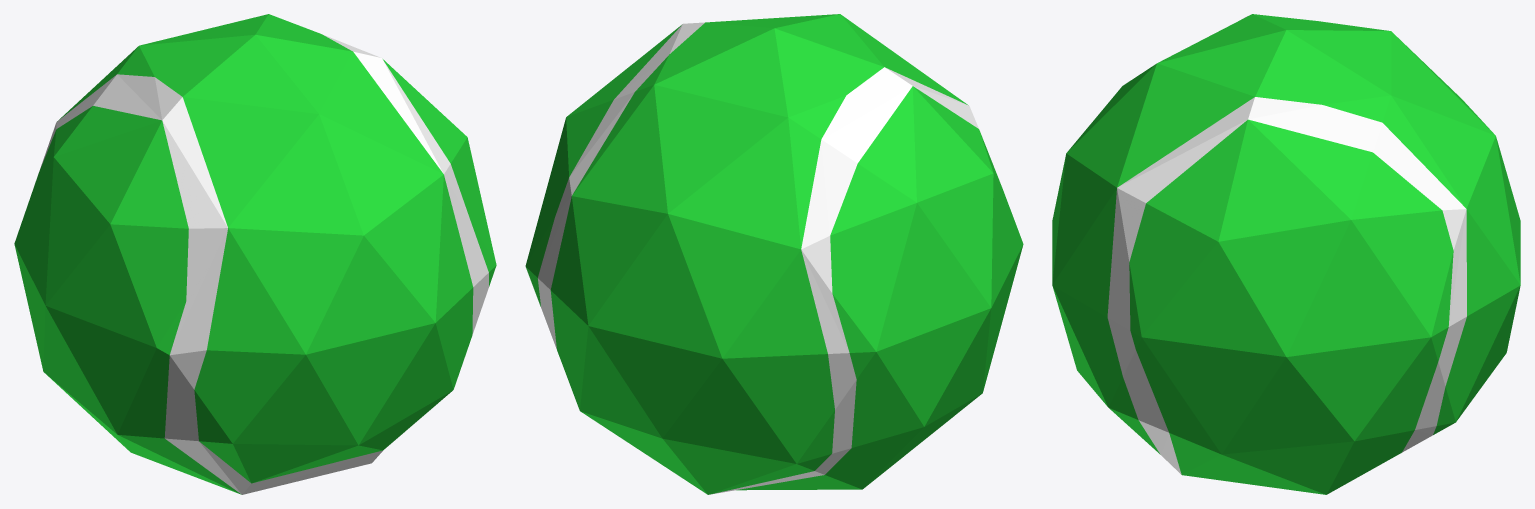
File: Tennis_ball.fbx
The picture shows the model from 3 angles, left to right: view 1: azimuth 30°, elevation 25°; view 2: azimuth 150°, elevation 25°; view 3: azimuth 270°, elevation 25°; orthographic projection. The views are drawn at different scales.
Parts seen in each view (by area): view 1: Tennis_ball; view 2: Tennis_ball; view 3: Tennis_ball.
Boxes of the visible parts, left/top/right/bottom form: Tennis_ball: left=14, top=14, right=496, bottom=494; Tennis_ball: left=525, top=14, right=1023, bottom=494; Tennis_ball: left=1052, top=14, right=1520, bottom=494.
Size of the model in its own units: 6.93 by 6.93 by 6.59.
